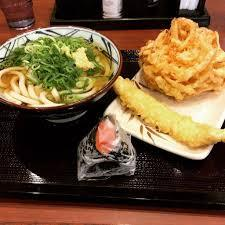bukkake: (2, 29, 117, 102)
kakiage: (138, 18, 225, 93)
